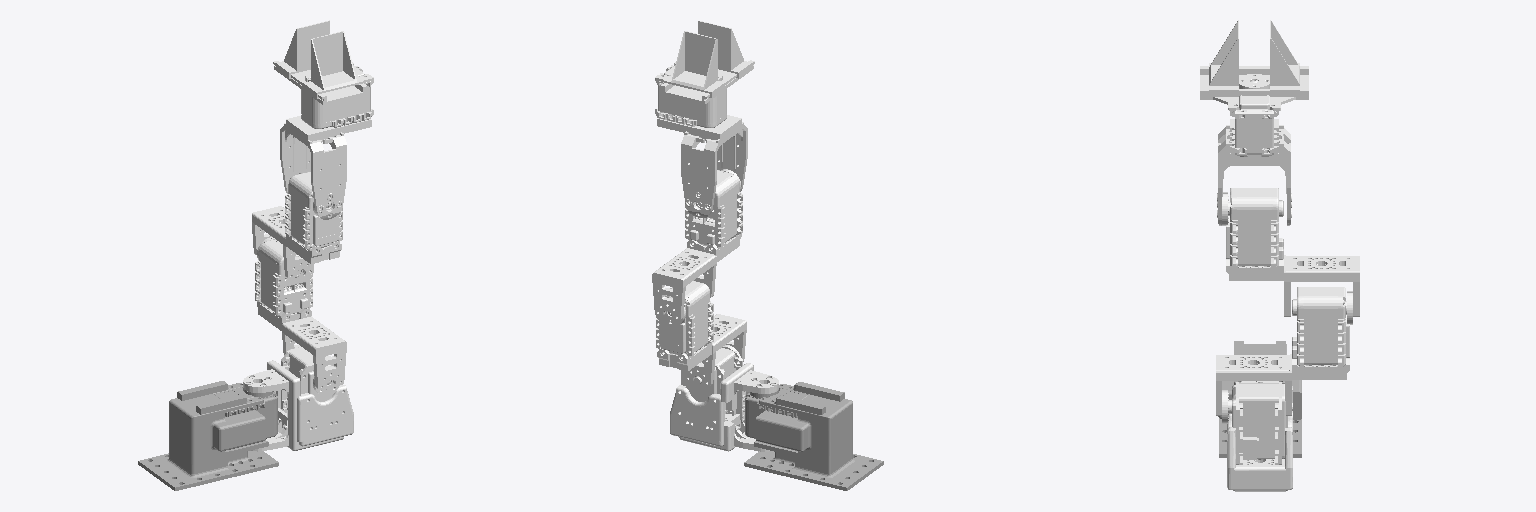
robot.urdf — EnsamblajeRobot.SLDASM:
<?xml version="1.0" encoding="utf-8"?>
<!-- This URDF was automatically created by SolidWorks to URDF Exporter! Originally created by [author] ([email redacted]) 
     Commit Version: 1.6.0-1-g15f4949  Build Version: 1.6.7594.29634
     For more information, please see http://wiki.ros.org/sw_urdf_exporter -->
<robot
  name="EnsamblajeRobot.SLDASM">
  <link
    name="base_link">
    <inertial>
      <origin
        xyz="0.0084898 9.442E-05 0.02429"
        rpy="0 0 0" />
      <mass
        value="0.13875" />
      <inertia
        ixx="4.9874E-05"
        ixy="-1.4398E-08"
        ixz="-3.1771E-07"
        iyy="6.394E-05"
        iyz="-4.4077E-09"
        izz="5.7156E-05" />
    </inertial>
    <visual>
      <origin
        xyz="0 0 0"
        rpy="0 0 0" />
      <geometry>
        <mesh
          filename="package://EnsamblajeRobot.SLDASM/meshes/base_link.STL" />
      </geometry>
      <material
        name="">
        <color
          rgba="0.75294 0.75294 0.75294 1" />
      </material>
    </visual>
    <collision>
      <origin
        xyz="0 0 0"
        rpy="0 0 0" />
      <geometry>
        <mesh
          filename="package://EnsamblajeRobot.SLDASM/meshes/base_link.STL" />
      </geometry>
    </collision>
  </link>
  <link
    name="waist_link">
    <inertial>
      <origin
        xyz="0.039723 -0.0019578 0.034617"
        rpy="0 0 0" />
      <mass
        value="0.13759" />
      <inertia
        ixx="4.4295E-05"
        ixy="-3.4932E-07"
        ixz="8.0728E-06"
        iyy="5.0403E-05"
        iyz="4.3166E-08"
        izz="4.172E-05" />
    </inertial>
    <visual>
      <origin
        xyz="0 0 0"
        rpy="0 0 0" />
      <geometry>
        <mesh
          filename="package://EnsamblajeRobot.SLDASM/meshes/waist_link.STL" />
      </geometry>
      <material
        name="">
        <color
          rgba="48 50 49 1" />
      </material>
    </visual>
    <collision>
      <origin
        xyz="0 0 0"
        rpy="0 0 0" />
      <geometry>
        <mesh
          filename="package://EnsamblajeRobot.SLDASM/meshes/waist_link.STL" />
      </geometry>
    </collision>
  </link>
  <joint
    name="base_waist_joint"
    type="revolute">
    <origin
      xyz="0.041313 7.9909E-05 0.006"
      rpy="0 0 0" />
    <parent
      link="base_link" />
    <child
      link="waist_link" />
    <axis
      xyz="0 0 1" />
    <limit
      lower="-1.0472"
      upper="1.0472"
      effort="1.765"
      velocity="10.157" />
  </joint>
  <link
    name="shoulder_link">
    <inertial>
      <origin
        xyz="2.1317E-05 0.036161 0.048291"
        rpy="0 0 0" />
      <mass
        value="0.063318" />
      <inertia
        ixx="1.808E-05"
        ixy="-1.4249E-09"
        ixz="1.0432E-08"
        iyy="1.2539E-05"
        iyz="1.858E-07"
        izz="1.2788E-05" />
    </inertial>
    <visual>
      <origin
        xyz="0 0 0"
        rpy="0 0 0" />
      <geometry>
        <mesh
          filename="package://EnsamblajeRobot.SLDASM/meshes/shoulder_link.STL" />
      </geometry>
      <material
        name="">
        <color
          rgba="31 78 121 1" />
      </material>
    </visual>
    <collision>
      <origin
        xyz="0 0 0"
        rpy="0 0 0" />
      <geometry>
        <mesh
          filename="package://EnsamblajeRobot.SLDASM/meshes/shoulder_link.STL" />
      </geometry>
    </collision>
  </link>
  <joint
    name="waist_shoulder_joint"
    type="revolute">
    <origin
      xyz="0.045 -0.00425 0.047979"
      rpy="0 0 0" />
    <parent
      link="waist_link" />
    <child
      link="shoulder_link" />
    <axis
      xyz="0 1 0" />
    <limit
      lower="-1.0472"
      upper="1.0472"
      effort="1.765"
      velocity="10.157" />
  </joint>
  <link
    name="arm_link">
    <inertial>
      <origin
        xyz="-2.1317E-05 -0.036161 0.045745"
        rpy="0 0 0" />
      <mass
        value="0.063318" />
      <inertia
        ixx="1.808E-05"
        ixy="-1.4249E-09"
        ixz="-1.0432E-08"
        iyy="1.2539E-05"
        iyz="-1.858E-07"
        izz="1.2788E-05" />
    </inertial>
    <visual>
      <origin
        xyz="0 0 0"
        rpy="0 0 0" />
      <geometry>
        <mesh
          filename="package://EnsamblajeRobot.SLDASM/meshes/arm_link.STL" />
      </geometry>
      <material
        name="">
        <color
          rgba="48 157 181 1" />
      </material>
    </visual>
    <collision>
      <origin
        xyz="0 0 0"
        rpy="0 0 0" />
      <geometry>
        <mesh
          filename="package://EnsamblajeRobot.SLDASM/meshes/arm_link.STL" />
      </geometry>
    </collision>
  </link>
  <joint
    name="shoulder_arm_joint"
    type="revolute">
    <origin
      xyz="0 0.0445 0.074046"
      rpy="0 0 0" />
    <parent
      link="shoulder_link" />
    <child
      link="arm_link" />
    <axis
      xyz="0 1 0" />
    <limit
      lower="-1.0472"
      upper="1.0472"
      effort="1.765"
      velocity="10.157" />
  </joint>
  <link
    name="wrist_link">
    <inertial>
      <origin
        xyz="0.013261 -2.0895E-05 0.06379"
        rpy="0 0 0" />
      <mass
        value="0.063767" />
      <inertia
        ixx="1.663E-05"
        ixy="1.052E-08"
        ixz="-2.7618E-07"
        iyy="1.8523E-05"
        iyz="1.4564E-09"
        izz="1.851E-05" />
    </inertial>
    <visual>
      <origin
        xyz="0 0 0"
        rpy="0 0 0" />
      <geometry>
        <mesh
          filename="package://EnsamblajeRobot.SLDASM/meshes/wrist_link.STL" />
      </geometry>
      <material
        name="">
        <color
          rgba="1 1 1 1" />
      </material>
    </visual>
    <collision>
      <origin
        xyz="0 0 0"
        rpy="0 0 0" />
      <geometry>
        <mesh
          filename="package://EnsamblajeRobot.SLDASM/meshes/wrist_link.STL" />
      </geometry>
    </collision>
  </link>
  <joint
    name="arm_wrist_joint"
    type="revolute">
    <origin
      xyz="0 -0.044 0.068954"
      rpy="0 0 0" />
    <parent
      link="arm_link" />
    <child
      link="wrist_link" />
    <axis
      xyz="0 1 0" />
    <limit
      lower="-1.0472"
      upper="1.0472"
      effort="1.765"
      velocity="10.157" />
  </joint>
  <link
    name="end_efector">
    <inertial>
      <origin
        xyz="0.00073639 -4.8026E-15 -0.033697"
        rpy="0 0 0" />
      <mass
        value="0.014877" />
      <inertia
        ixx="4.3491E-06"
        ixy="-3.2048E-21"
        ixz="1.166E-08"
        iyy="3.2694E-06"
        iyz="-8.8224E-20"
        izz="6.1015E-06" />
    </inertial>
    <visual>
      <origin
        xyz="0 0 0"
        rpy="0 0 0" />
      <geometry>
        <mesh
          filename="package://EnsamblajeRobot.SLDASM/meshes/end_efector.STL" />
      </geometry>
      <material
        name="">
        <color
          rgba="1 1 1 1" />
      </material>
    </visual>
    <collision>
      <origin
        xyz="0 0 0"
        rpy="0 0 0" />
      <geometry>
        <mesh
          filename="package://EnsamblajeRobot.SLDASM/meshes/end_efector.STL" />
      </geometry>
    </collision>
  </link>
  <joint
    name="EF"
    type="fixed">
    <origin
      xyz="0.0055201 0 0.132"
      rpy="0 0 0" />
    <parent
      link="wrist_link" />
    <child
      link="end_efector" />
    <axis
      xyz="0 0 0" />
  </joint>
</robot>

--- Facts derived from the render (not from the file) ---
Views: 3 orthographic renders of the robot side by side, from view 1: azimuth 30°, elevation 25°; view 2: azimuth 150°, elevation 25°; view 3: azimuth 270°, elevation 25°.
Robot: EnsamblajeRobot.SLDASM — 6 links, 5 joints (4 revolute, 1 fixed); root link base_link; default pose: all joints at 0.
Visible links, largest first — view 1: base_link, wrist_link, waist_link, shoulder_link, arm_link, end_efector; view 2: base_link, wrist_link, waist_link, arm_link, shoulder_link, end_efector; view 3: arm_link, shoulder_link, waist_link, wrist_link, end_efector, base_link.
Link boxes in pixels (x1,y1,x2,y2): base_link: (138, 381, 278, 490); wrist_link: (280, 65, 373, 219); waist_link: (243, 347, 353, 451); shoulder_link: (255, 237, 346, 389); arm_link: (252, 172, 342, 278); end_efector: (273, 20, 373, 104); base_link: (744, 382, 883, 490); wrist_link: (655, 65, 747, 217); waist_link: (670, 345, 778, 451); arm_link: (652, 169, 742, 320); shoulder_link: (656, 281, 746, 386); end_efector: (655, 21, 754, 103); arm_link: (1222, 188, 1359, 316); shoulder_link: (1216, 287, 1352, 415); waist_link: (1222, 381, 1292, 491); wrist_link: (1217, 74, 1291, 225); end_efector: (1200, 20, 1308, 110); base_link: (1218, 341, 1301, 457).
Size in the robot's own frame: 0.175 by 0.1048 by 0.332 metres.
6 mesh visuals loaded from 6 distinct referenced files (6 binary STL).